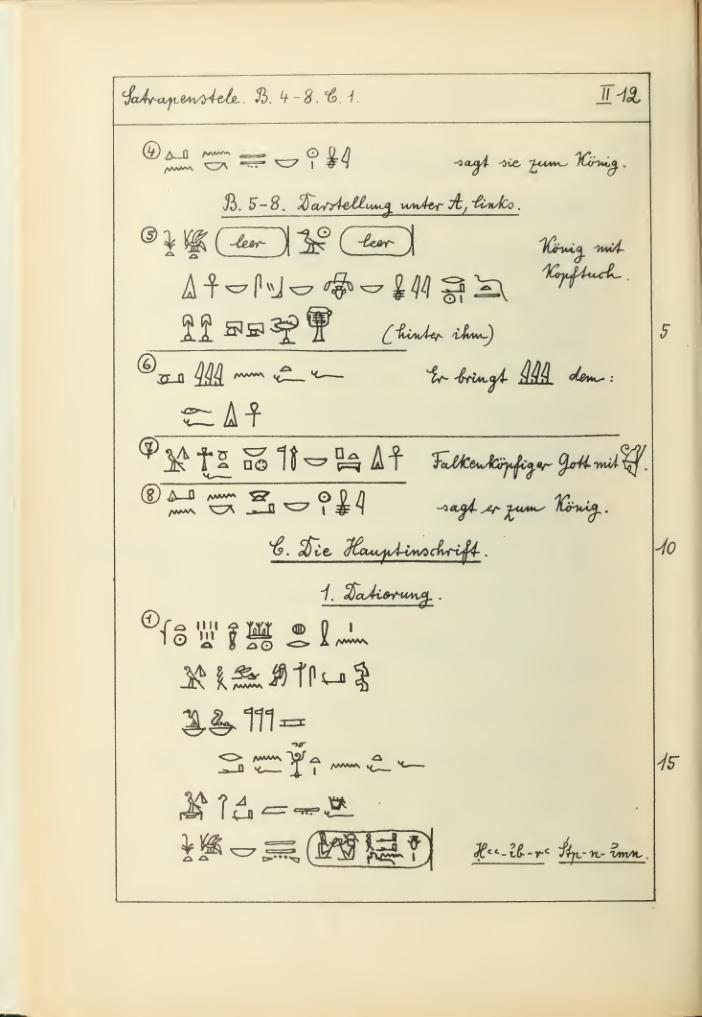circle: (295, 822, 454, 878), (335, 215, 443, 268), (209, 220, 319, 266)
